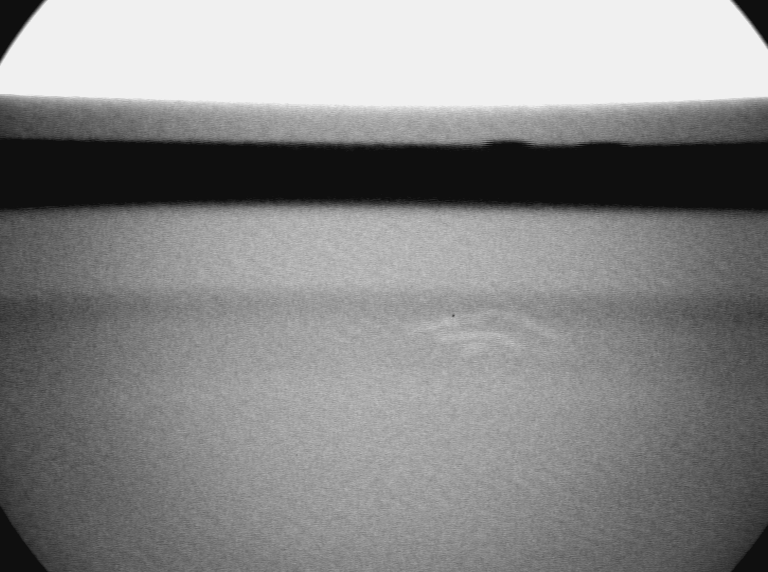defect: (420, 304, 573, 365)
